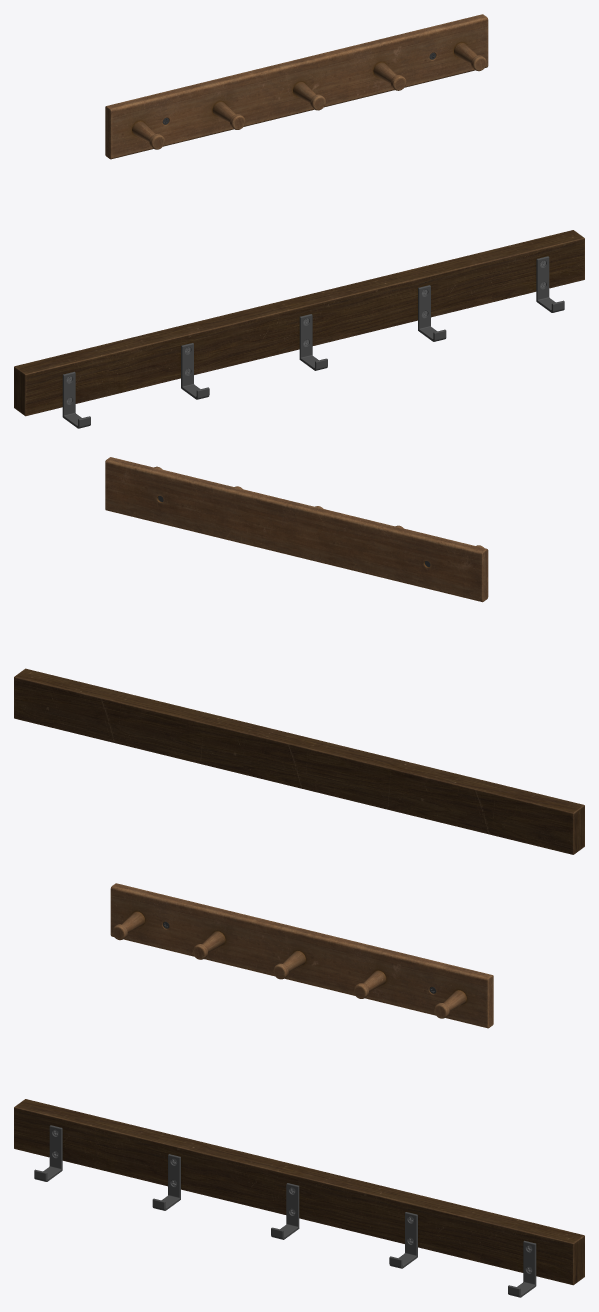
The model's file is wall_mount_hook_hanger_clothes.glb.
The picture shows the model from 3 angles, top to bottom: view 1: azimuth 30°, elevation 25°; view 2: azimuth 150°, elevation 25°; view 3: azimuth 330°, elevation 25°; orthographic projection.
Visible parts, largest first — view 1: hook_01_1, hook_02_0; view 2: hook_01_1, hook_02_0; view 3: hook_01_1, hook_02_0.
Part boxes in pixels (x1,y1,x2,y2): hook_01_1: (14, 230, 584, 428); hook_02_0: (105, 14, 488, 159); hook_01_1: (14, 668, 584, 854); hook_02_0: (105, 457, 488, 602); hook_01_1: (14, 1099, 584, 1297); hook_02_0: (110, 883, 493, 1028).
Size of the model in its own units: 0.6996 by 0.3466 by 0.0616.
Materials: 5 (5 with a texture image).
